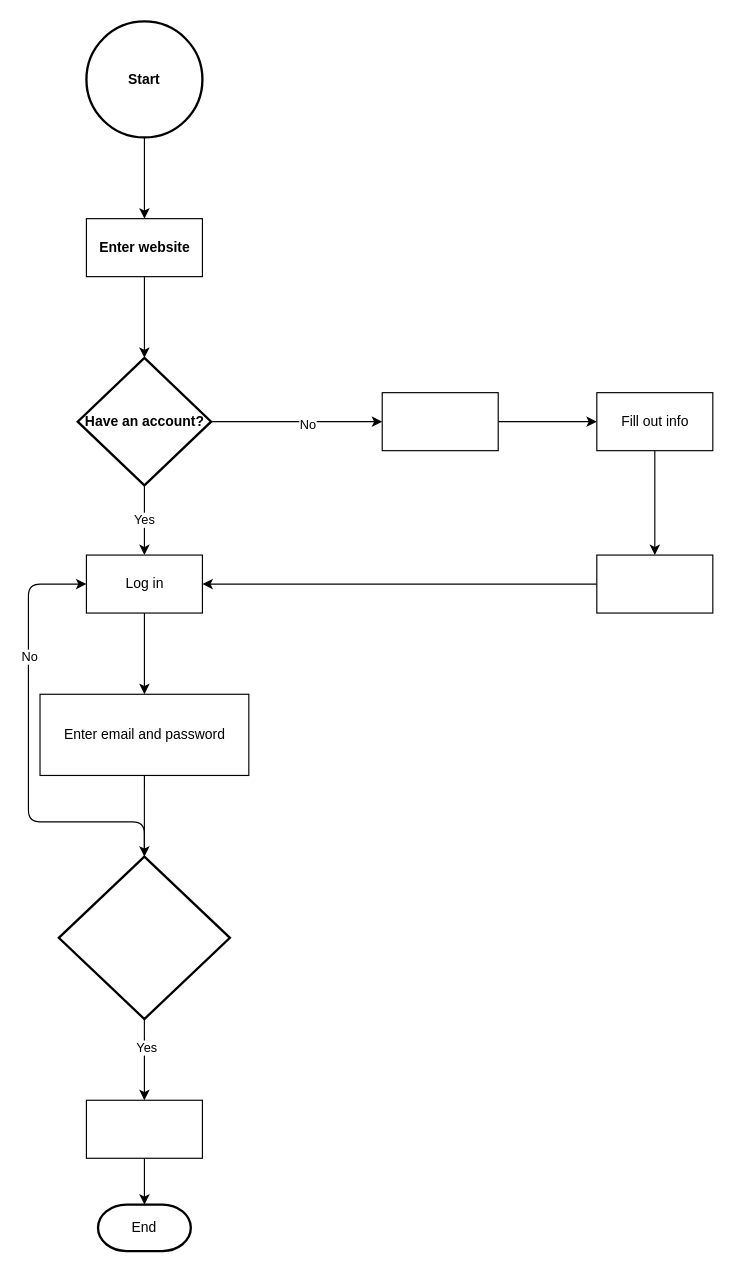
The diagram is 733 pixels wide and 1271 high, and some of its shapes have lost their labels. The shapes that lost their labels are listed below. From the top down, each one's box as (x1, y1, x2, y2) in pixels, then its label:
(381, 392, 498, 451): Create account
(596, 554, 713, 613): Submit
(57, 855, 230, 1020): Email and password valid?
(85, 1099, 202, 1158): Log into website
